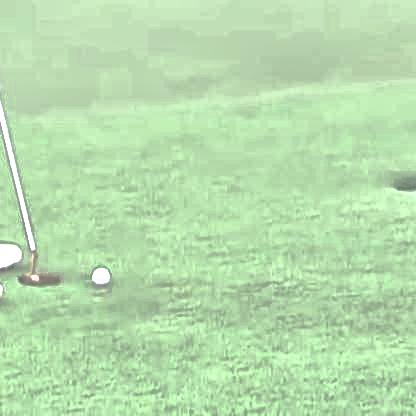golfball: (88, 265, 110, 284)
